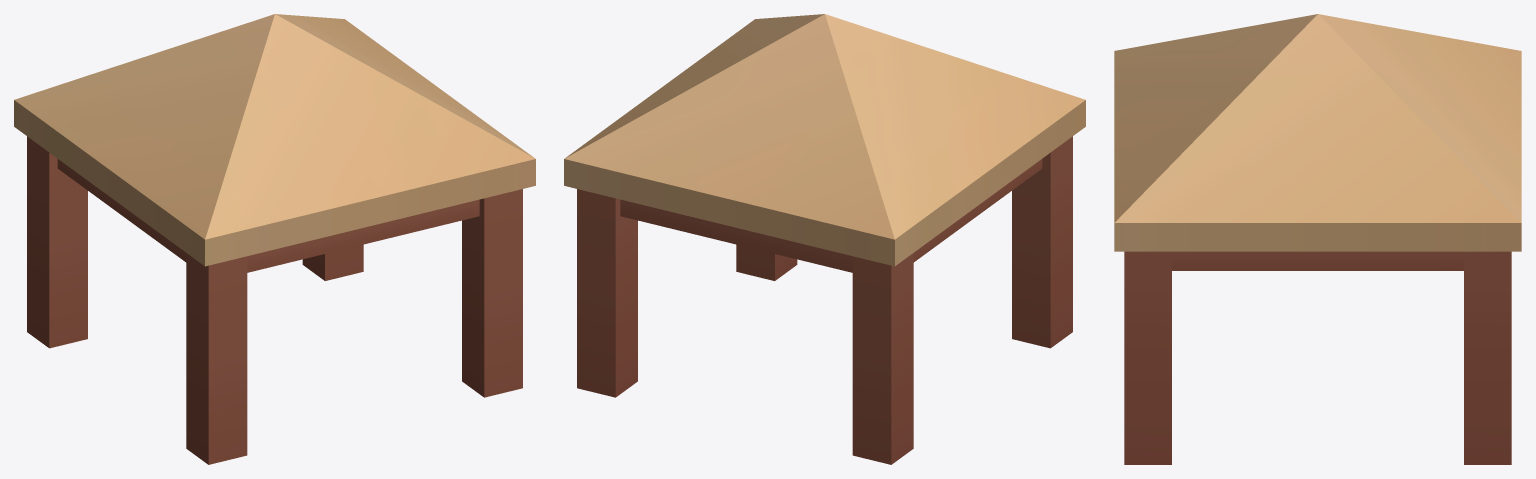
File: tent.glb
3 renders of one model, left to right at view 1: azimuth 30°, elevation 25°; view 2: azimuth 150°, elevation 25°; view 3: azimuth 270°, elevation 25°, orthographic. The views are drawn at different scales.
Visible parts, largest first — view 1: tent; view 2: tent; view 3: tent.
Part boxes in pixels (x1,y1,x2,y2): tent: (14, 14, 535, 464); tent: (564, 14, 1085, 464); tent: (1114, 14, 1521, 464).
Bounding box in the file's own units: 0.516 × 0.516 × 0.516.
Materials: 1 (1 with a texture image).
